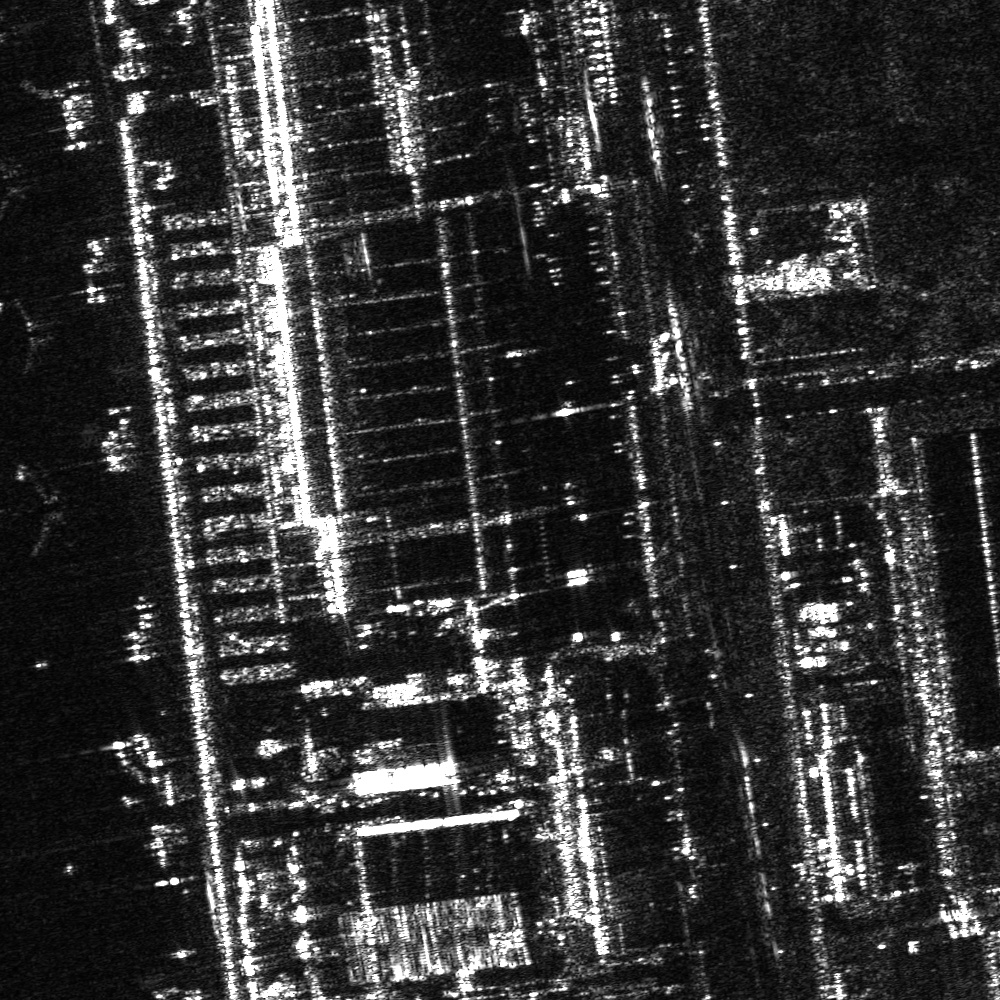Boeing787: (1, 454, 88, 566), (1, 293, 60, 382)
